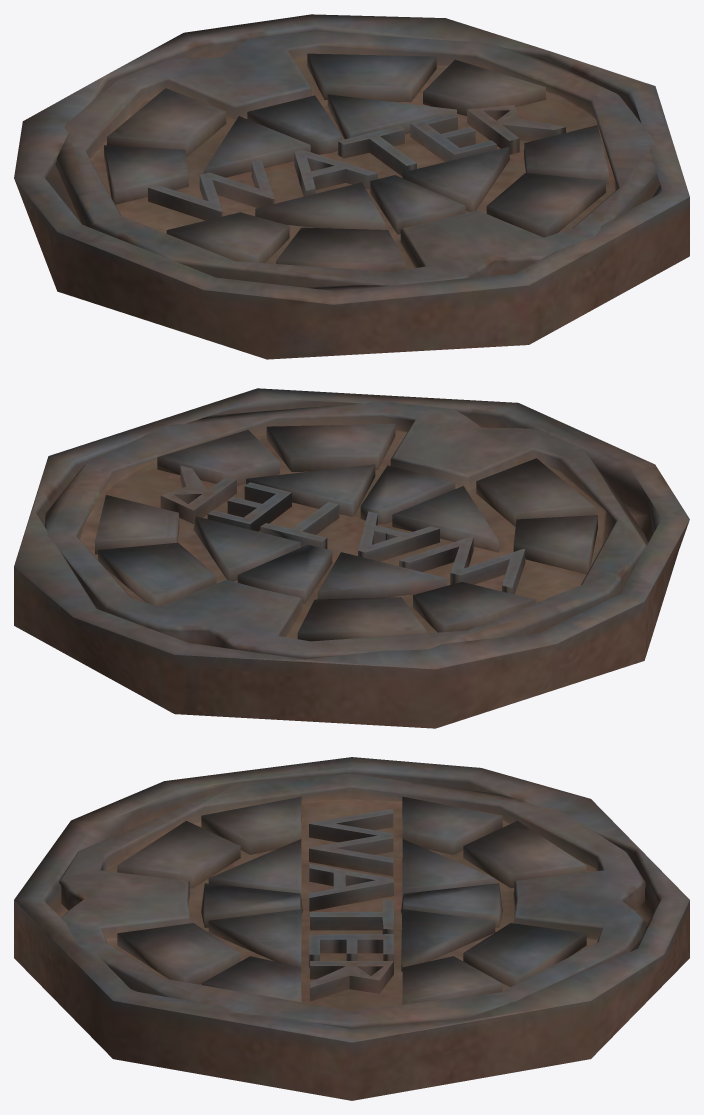
The model's file is water_manhole_cover.glb.
3 renders of one model, top to bottom at view 1: azimuth 30°, elevation 25°; view 2: azimuth 150°, elevation 25°; view 3: azimuth 270°, elevation 25°, orthographic. The views are drawn at different scales.
Parts seen in each view (by area): view 1: water_manhole_cover, water_manhole_cover_frame; view 2: water_manhole_cover, water_manhole_cover_frame; view 3: water_manhole_cover, water_manhole_cover_frame.
Boxes of the visible parts, x1,y1,x2,y2 form: water_manhole_cover: (55, 31, 659, 287); water_manhole_cover_frame: (14, 14, 689, 359); water_manhole_cover: (44, 401, 647, 659); water_manhole_cover_frame: (14, 388, 689, 728); water_manhole_cover: (59, 773, 645, 1029); water_manhole_cover_frame: (14, 757, 689, 1100).
Size of the model in its own units: 0.6908 by 0.0676 by 0.6908.
Materials: 1 (1 with a texture image).
